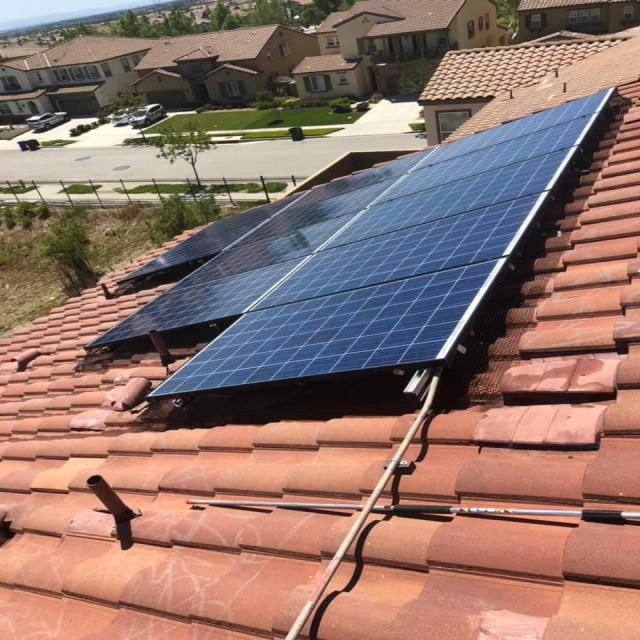clean-solar-panel: (88, 90, 612, 396)
